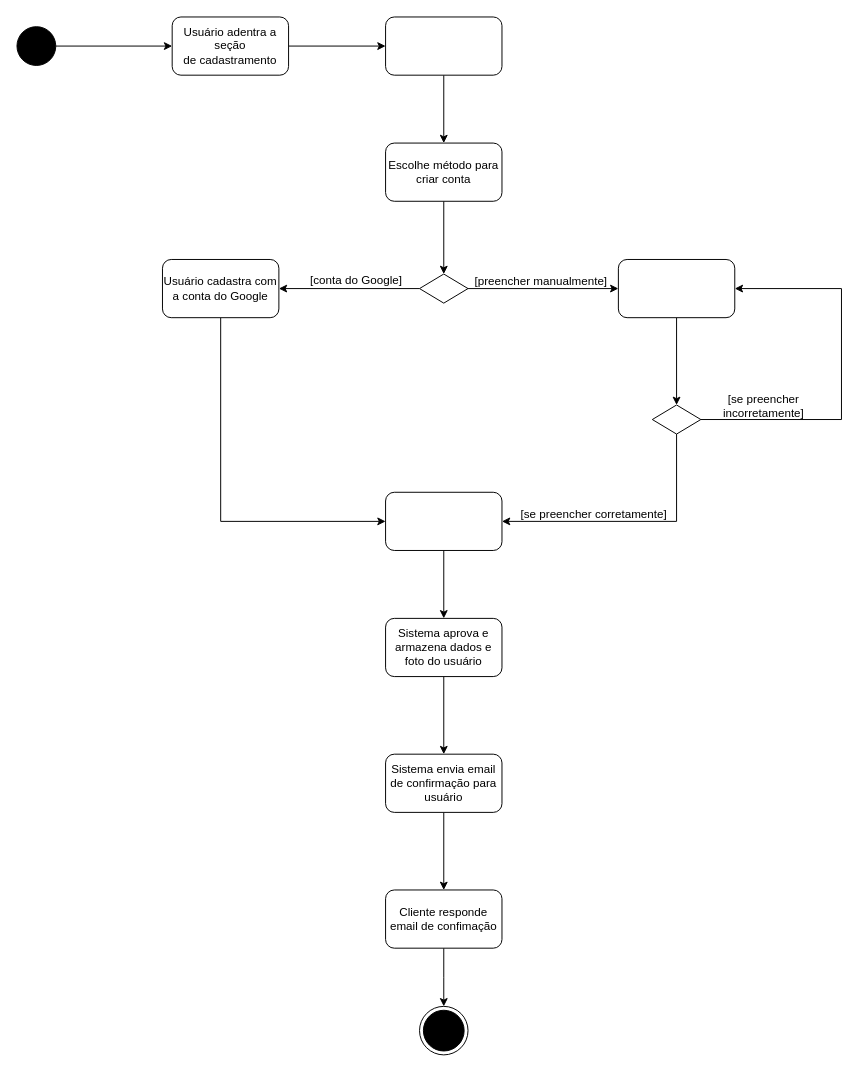
This 866x1072 diagram has some shape labels left out. Each missing label, with the centre of its shape:
"Dados enviados para o sistema" belongs at (x=443, y=520).
"Tela de preenchimento de dados" belongs at (x=443, y=45).
"Usuário preenche os campos de dados maunalmente" belongs at (x=676, y=288).
